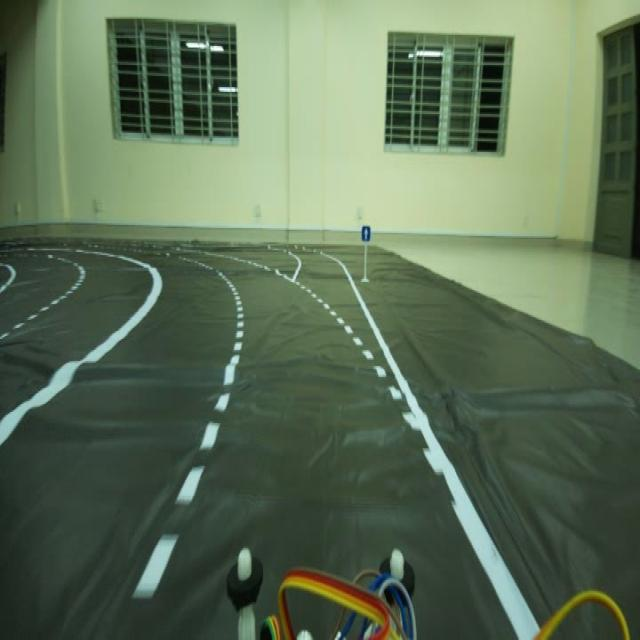onewayroad: (360, 223, 372, 246)
